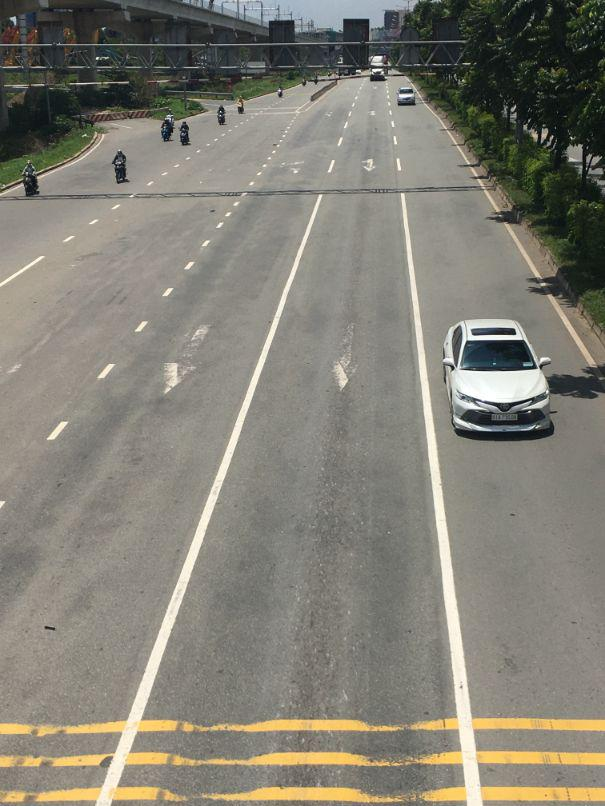car: (443, 317, 554, 443), (397, 86, 415, 105)
motorbike: (113, 151, 128, 182), (160, 114, 173, 142), (180, 121, 190, 144), (218, 106, 226, 125), (236, 101, 244, 116)
truck: (371, 52, 389, 79)
